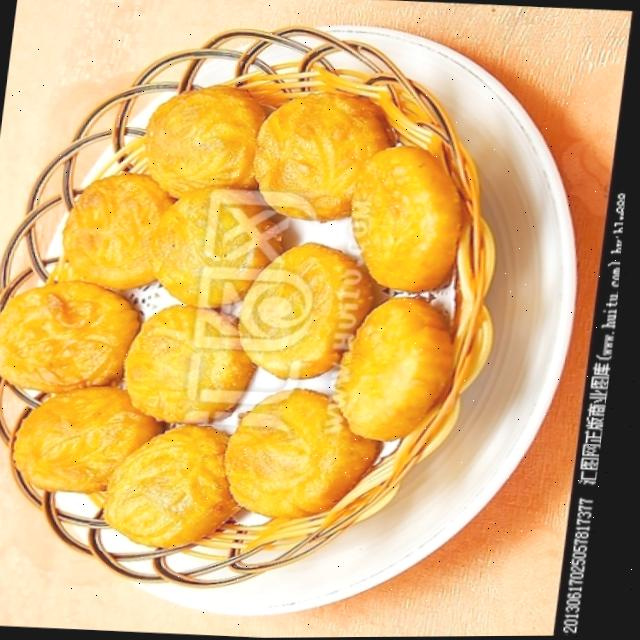炸货点心: (0, 50, 504, 578)
蛋糕甜品: (0, 50, 504, 578)
